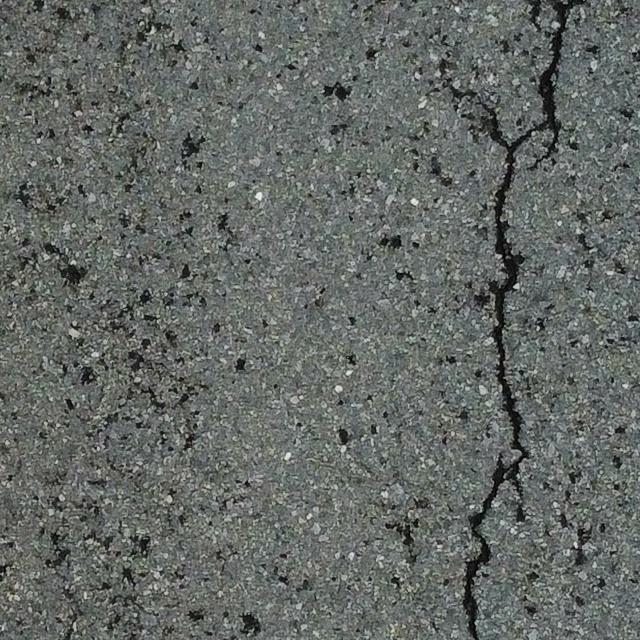LongitudinalCrack: (463, 1, 577, 639)
